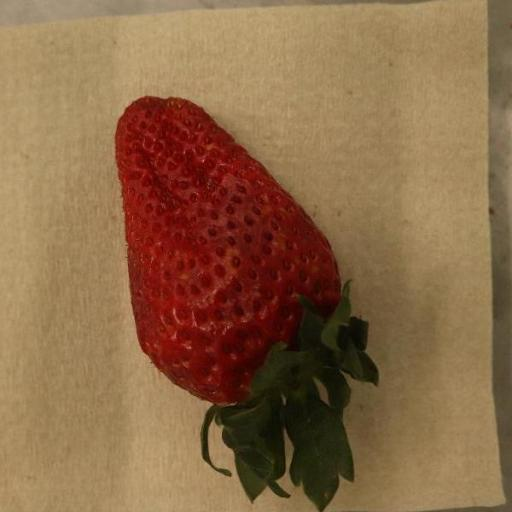Strawberry: (115, 96, 381, 512)
